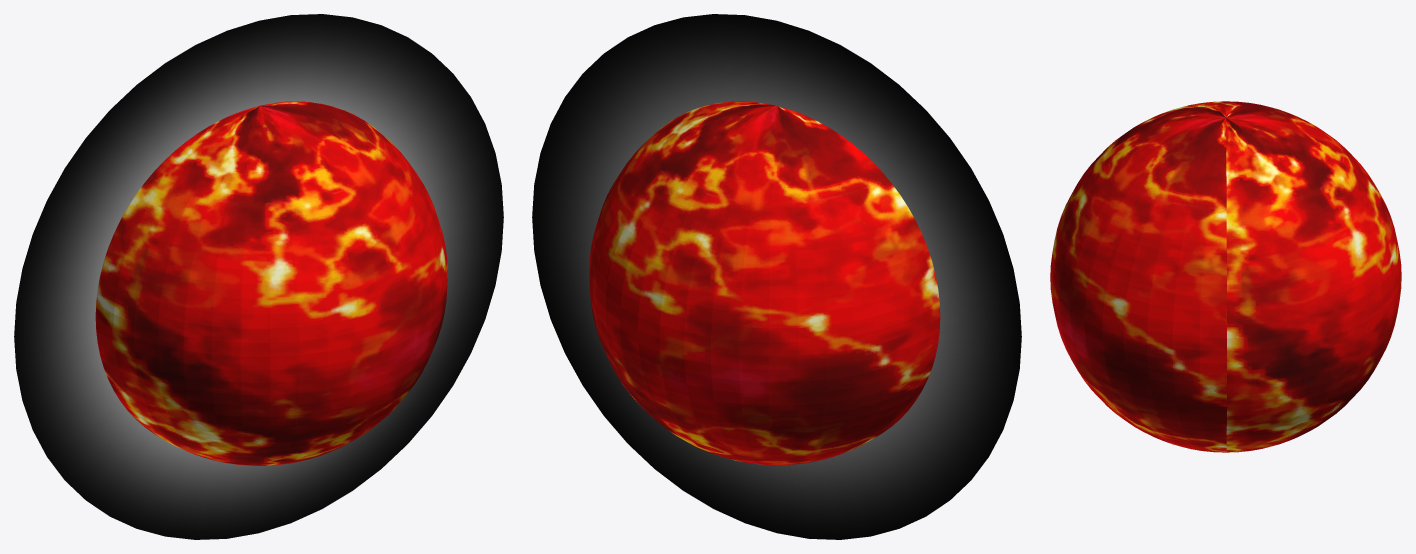
File: HellWaterfallMegaPlanet.fbx
3 renders of one model, left to right at view 1: azimuth 30°, elevation 25°; view 2: azimuth 150°, elevation 25°; view 3: azimuth 270°, elevation 25°, orthographic. The views are drawn at different scales.
Parts seen in each view (by area): view 1: mesh-0.001, mesh-0; view 2: mesh-0.001, mesh-0; view 3: mesh-0.001.
Boxes of the visible parts, box(x1,y1,x2,y2) form: mesh-0.001: box(95, 101, 447, 465); mesh-0: box(14, 14, 503, 539); mesh-0.001: box(589, 101, 940, 465); mesh-0: box(532, 14, 1021, 539); mesh-0.001: box(1050, 101, 1401, 452).
Size of the model in its own units: 1183550 by 1183550 by 789947.
Materials: 2 (2 with a texture image).
